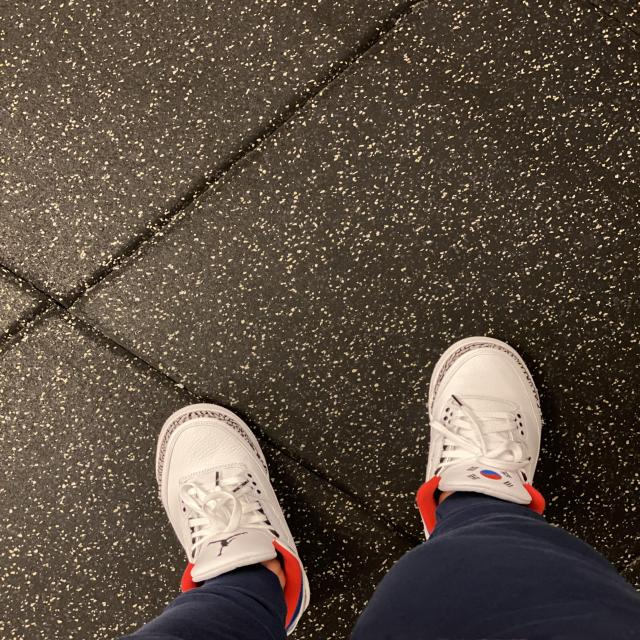shoe: (132, 390, 326, 635), (407, 328, 565, 552)
